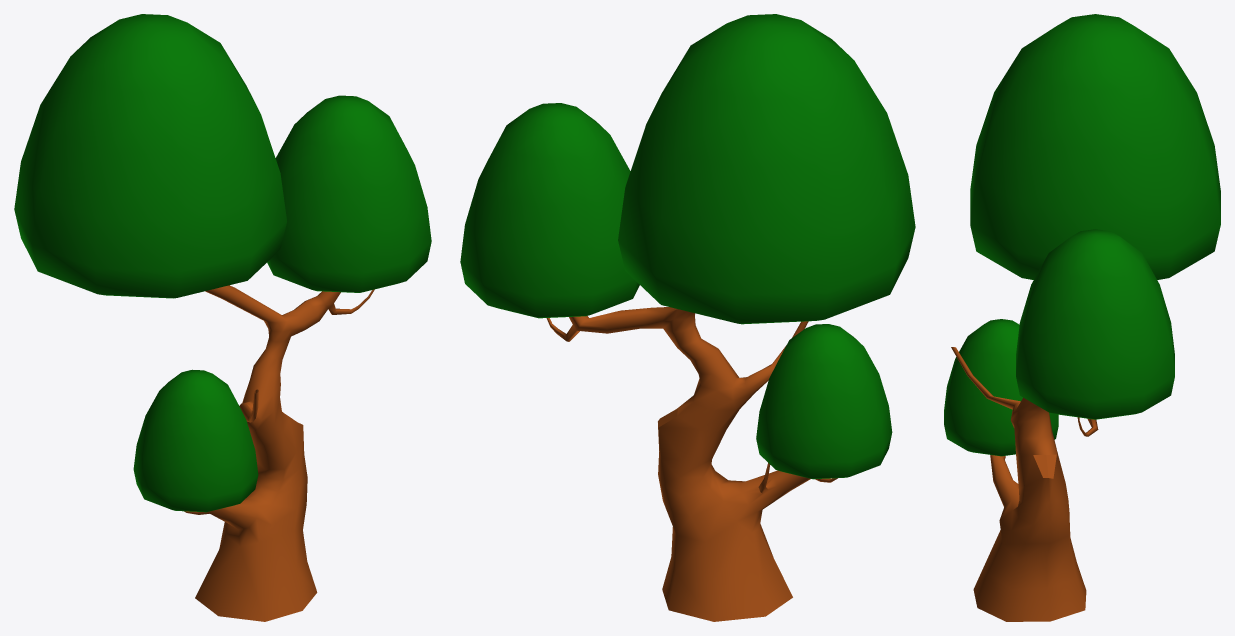
Rendered from SM_Tree_P_2.fbx.
3 views of the same model, side by side, from view 1: azimuth 30°, elevation 25°; view 2: azimuth 150°, elevation 25°; view 3: azimuth 270°, elevation 25° (orthographic). The views are drawn at different scales.
Parts seen in each view (by area): view 1: SM_Tree_P_2; view 2: SM_Tree_P_2; view 3: SM_Tree_P_2.
Boxes of the visible parts, x1,y1,x2,y2 form: SM_Tree_P_2: (14, 14, 431, 621); SM_Tree_P_2: (460, 14, 915, 621); SM_Tree_P_2: (944, 14, 1220, 621).
Bounding box in the file's own units: 906 × 1255 × 581.
